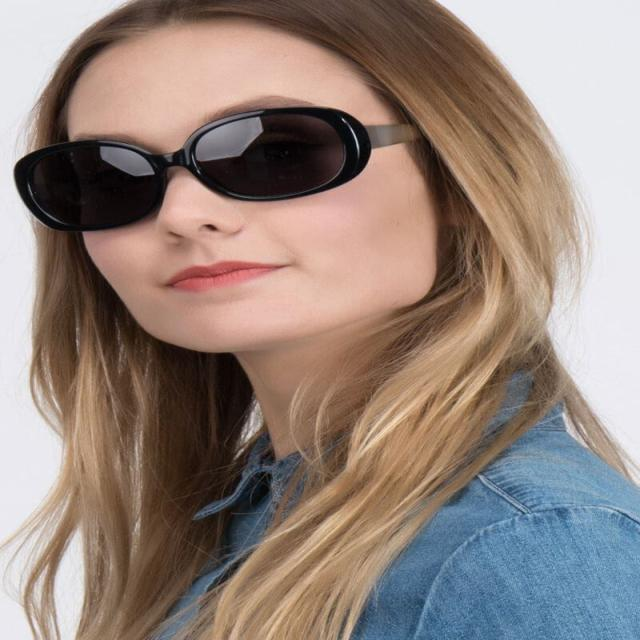2_gafas: (12, 105, 423, 233)
